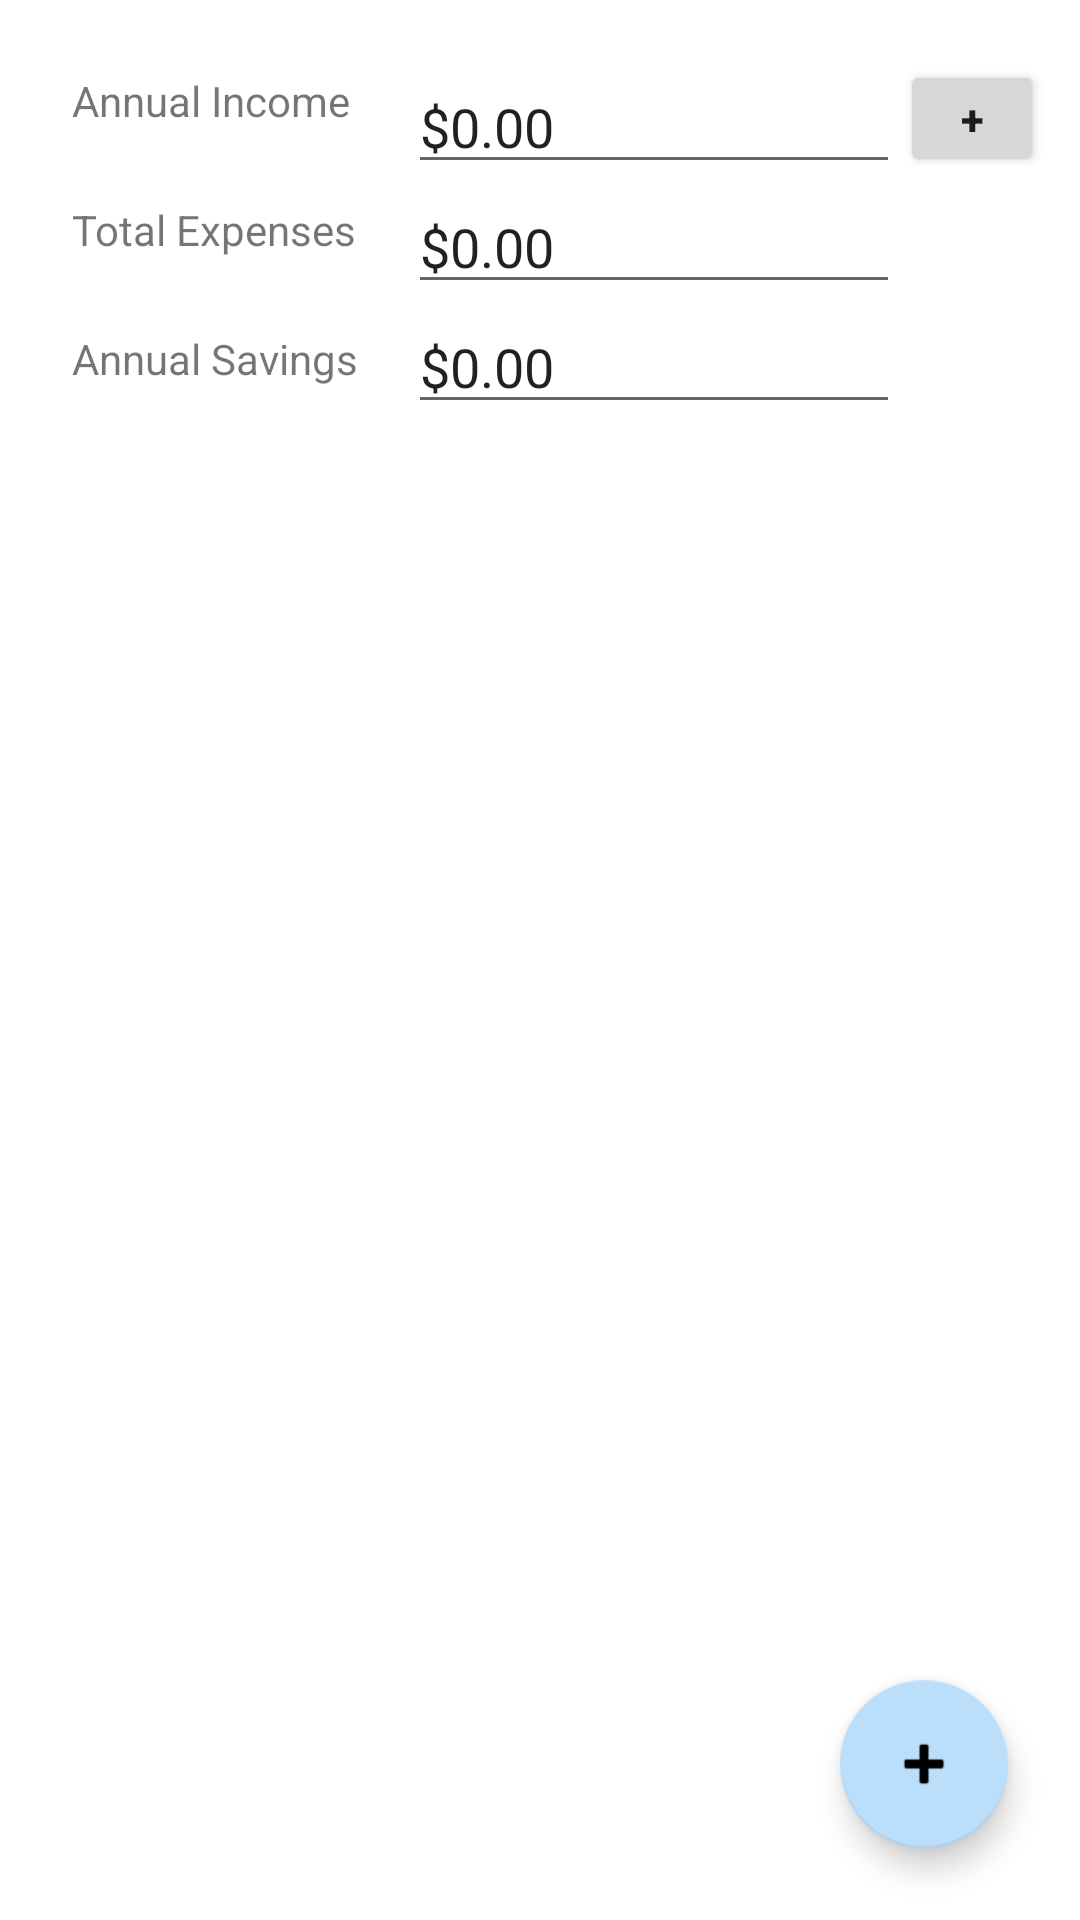

Icons on this 1080 × 1920 Android screen, each with its box as (x1, y1, x2, y2):
Add Expense: (840, 1680, 1008, 1848)
